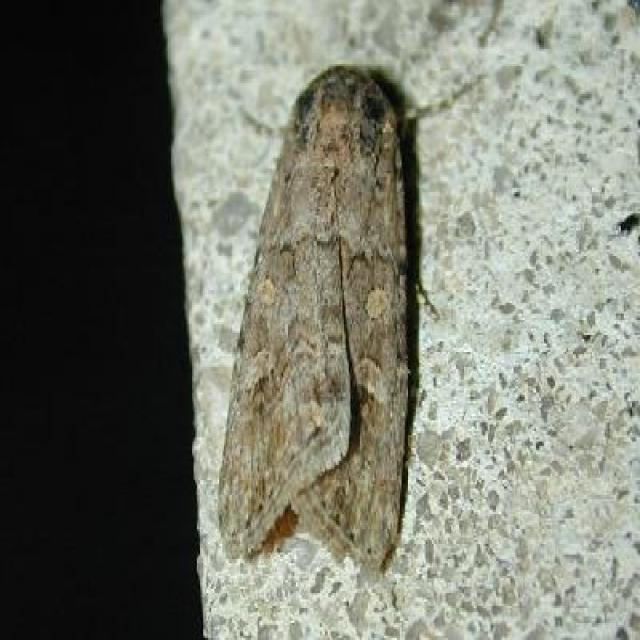BeetArmyWorm-Adult-: (207, 38, 439, 590)
